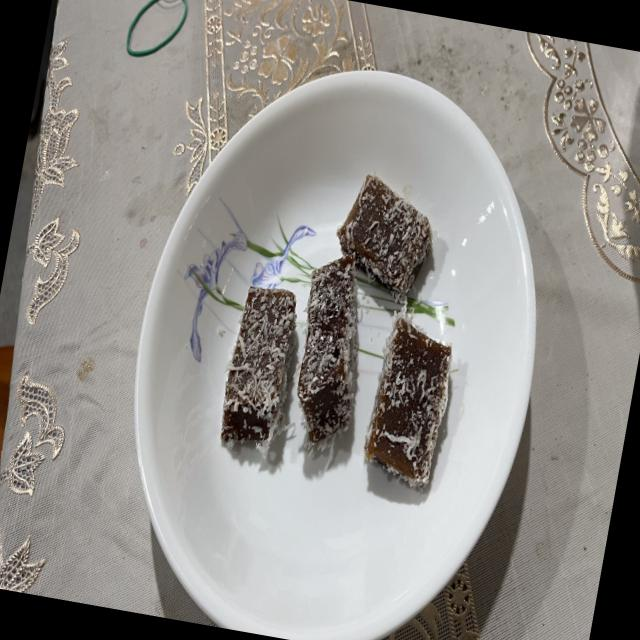kaswi: (365, 308, 451, 487), (221, 285, 296, 452), (336, 174, 432, 303), (296, 255, 357, 447)
